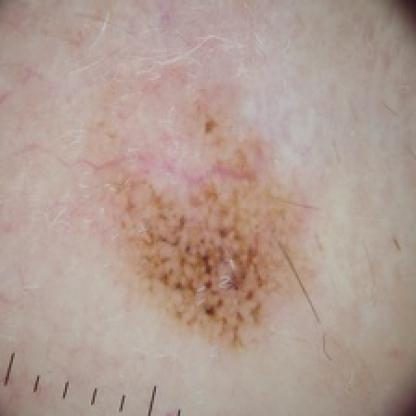malignant: (98, 102, 334, 331)
